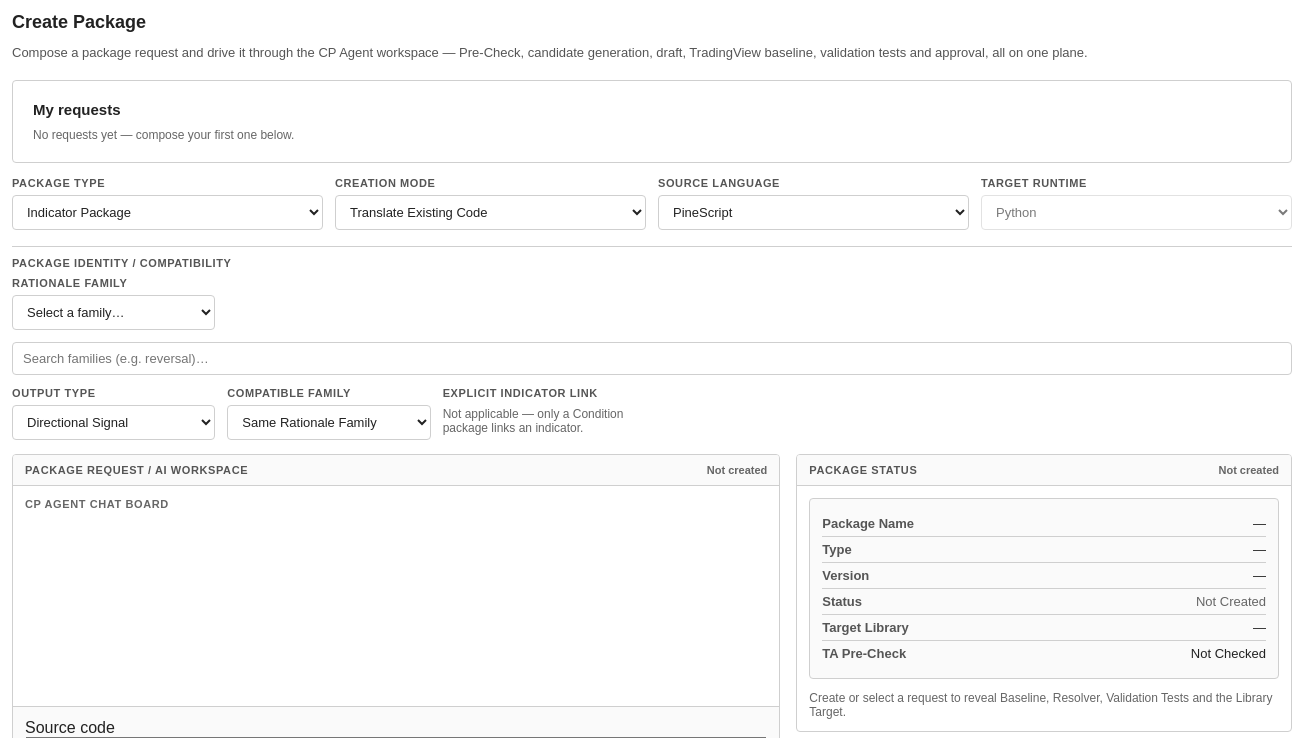
Test case: Create Package — Rationale Family suggestion chips › picking a chip only fills the existing selector — it issues no request
Type "reversal" into the field named "Search rationale families" at {"x": 652, "y": 358}, box [12, 342, 1292, 375]
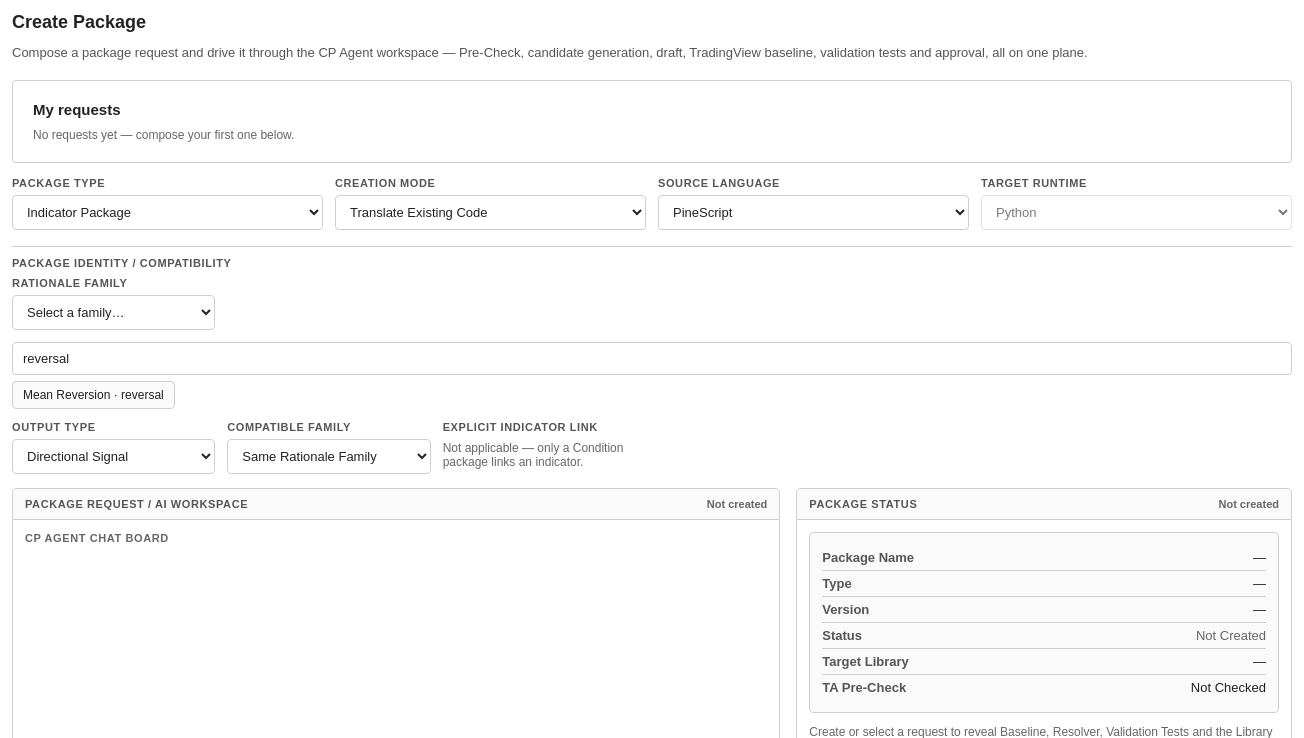
Click the button with aria-label "Use family Mean Reversion" at {"x": 93, "y": 395}, box [12, 381, 175, 409]
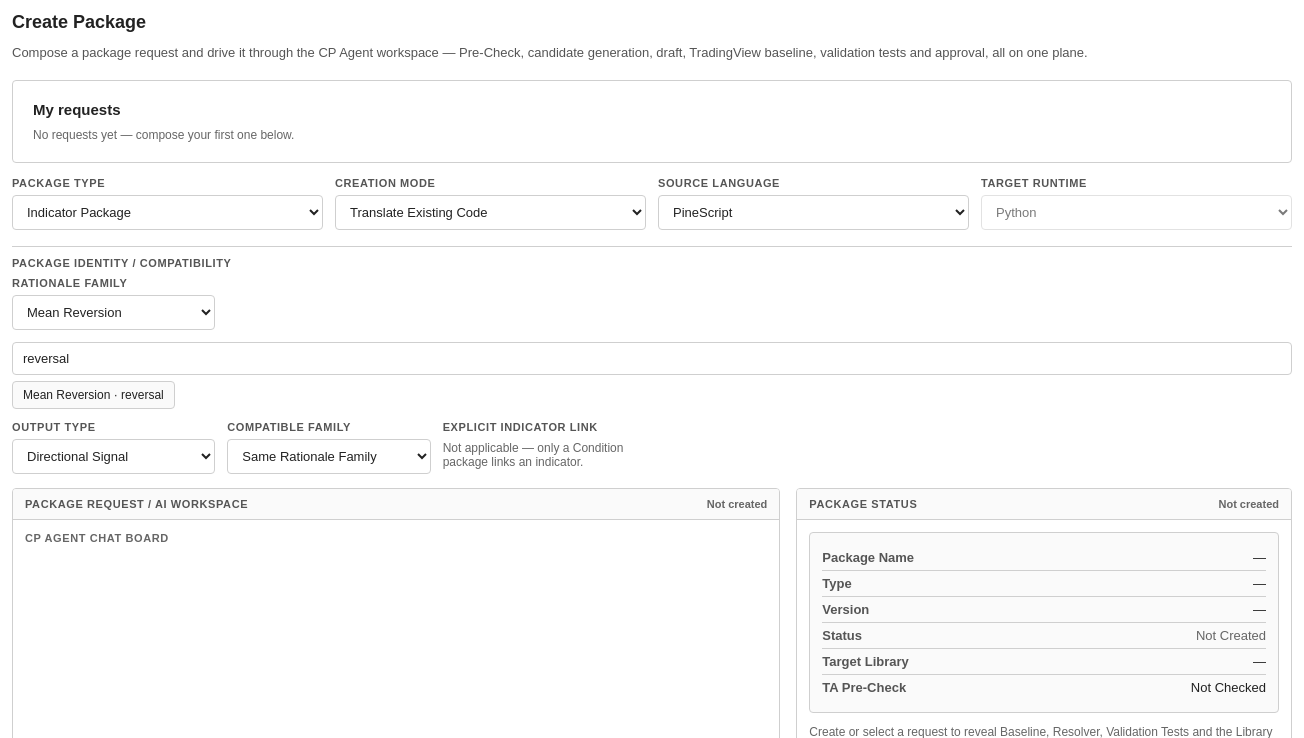
Expected: the dropdown labelled "Rationale family" shows "Mean Reversion", [12, 295, 215, 330]
